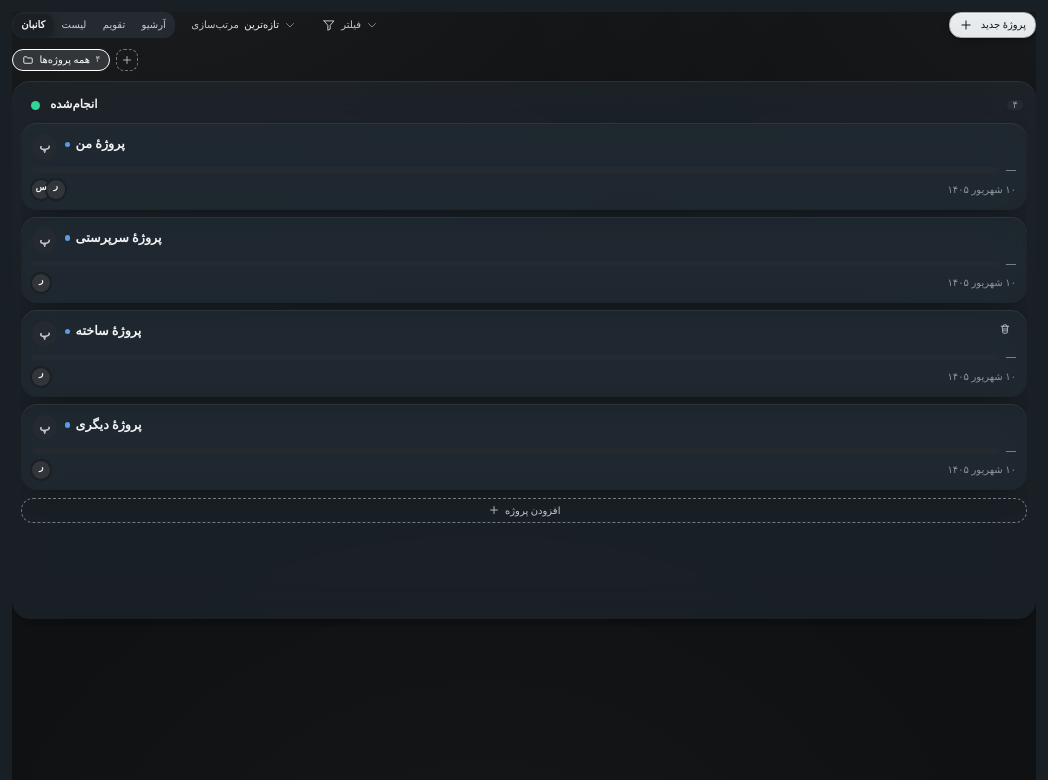
it: Projects › «مال من» keeps the projects the reader is on, leads, or MADE — and drops the rest
The image size is (1048, 780).
Expected: the heading "پروژهٔ من" is shown, [76,134,125,154]
Expected: the heading "پروژهٔ دیگری" is shown, [76,415,142,435]
Click the button "فیلتر".
click(350, 25)  # box [313,12,388,38]
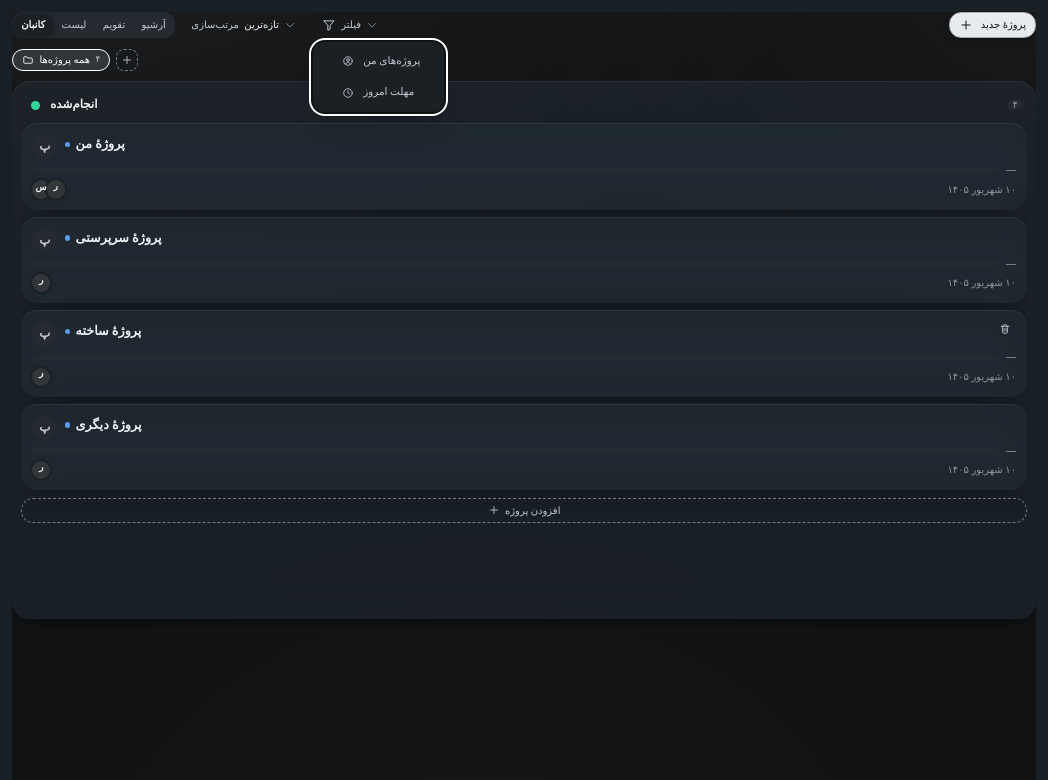
Click the menu item "پروژه‌های من".
click(381, 61)  # box [342,55,420,67]
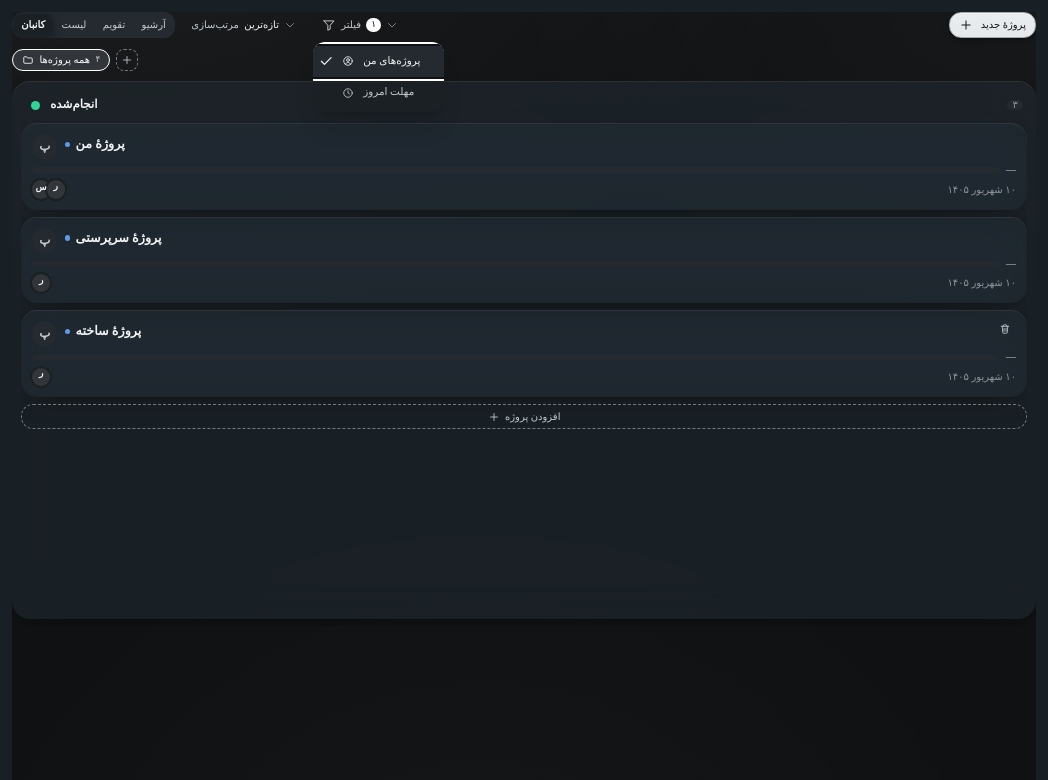
Expected: the heading "پروژهٔ من" is shown, [76,134,125,154]
Expected: the link "پروژهٔ دیگری" is gone
